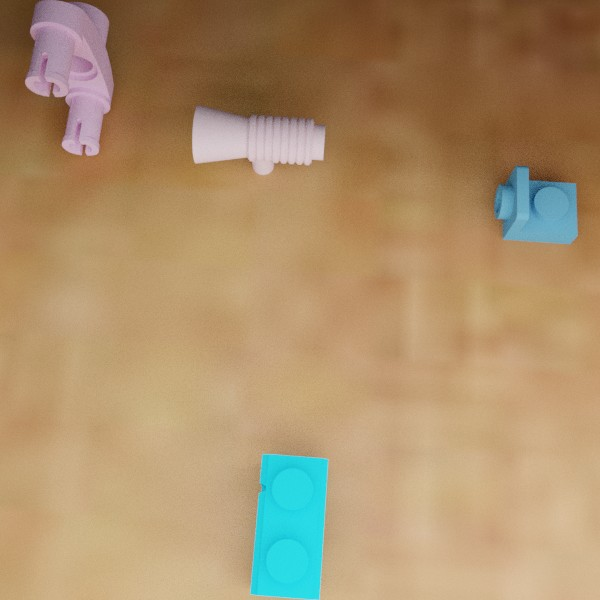lego: (25, 0, 113, 155), (250, 454, 328, 599), (192, 104, 325, 174), (494, 165, 577, 244)
